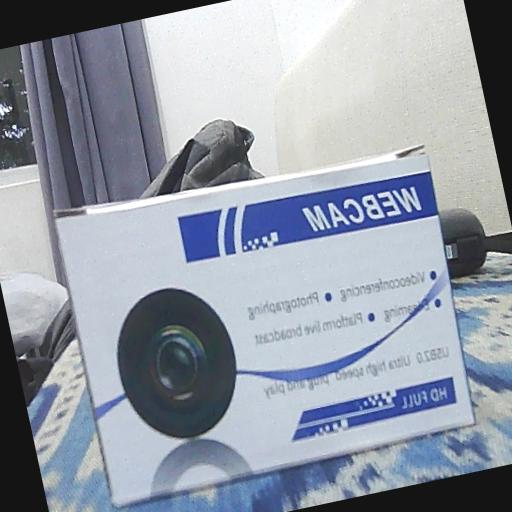webcam_box: (48, 131, 485, 510)
